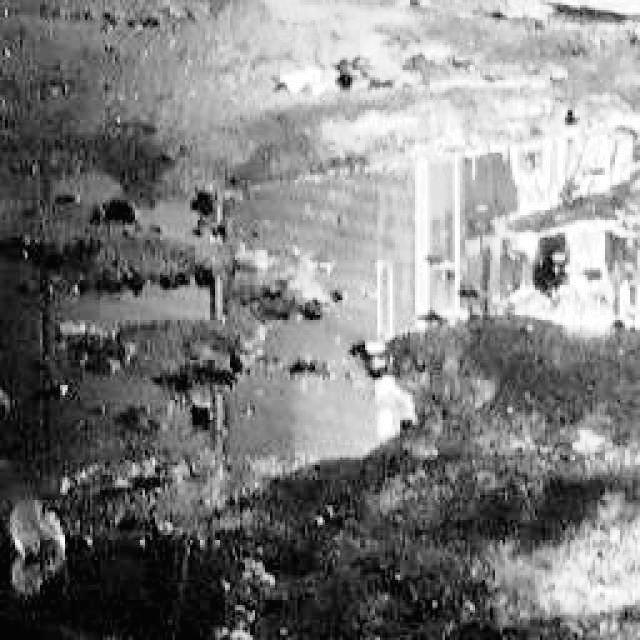Pothole: (0, 106, 640, 489)
